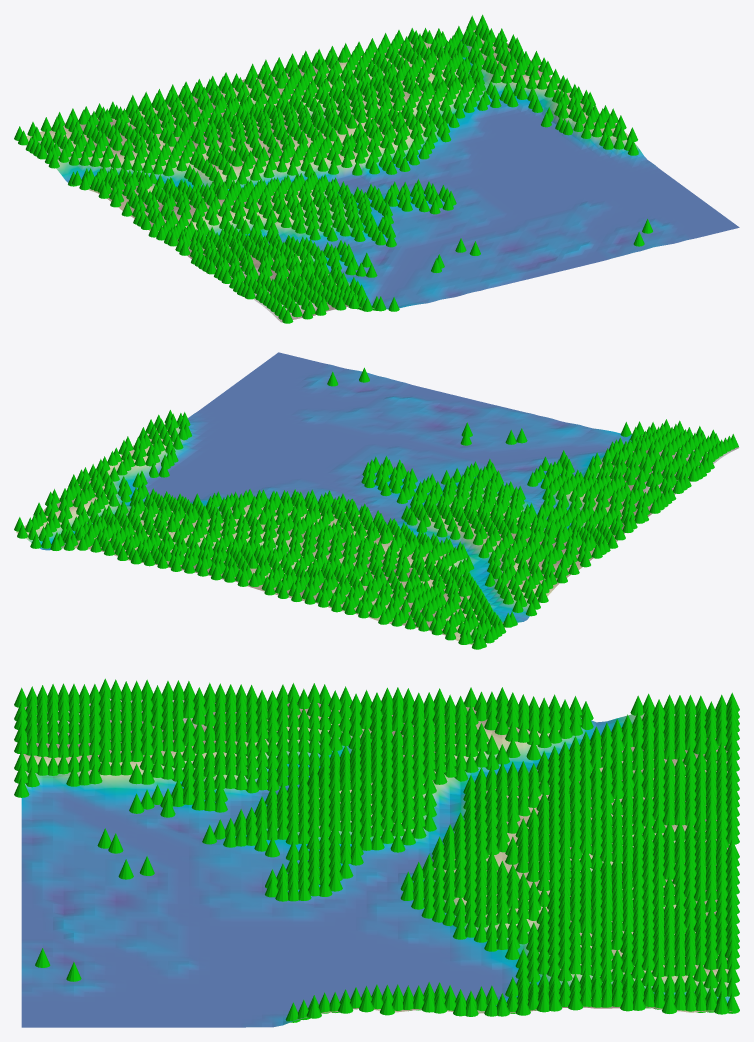
File: 002834_with_tree.glb
3 renders of one model, top to bottom at view 1: azimuth 30°, elevation 25°; view 2: azimuth 150°, elevation 25°; view 3: azimuth 270°, elevation 25°, orthographic. The views are drawn at different scales.
Parts seen in each view (by area): view 1: trees, terrain; view 2: trees, terrain; view 3: trees, terrain.
Part boxes in pixels (x1,y1,x2,y2): trees: (14,14,652,323); terrain: (26,25,739,322); trees: (14,367,738,649); terrain: (16,352,739,645); trees: (14,678,739,1022); terrain: (21,698,732,1027).
Size of the model in its own units: 0.019 by 0.00134 by 0.0187.
